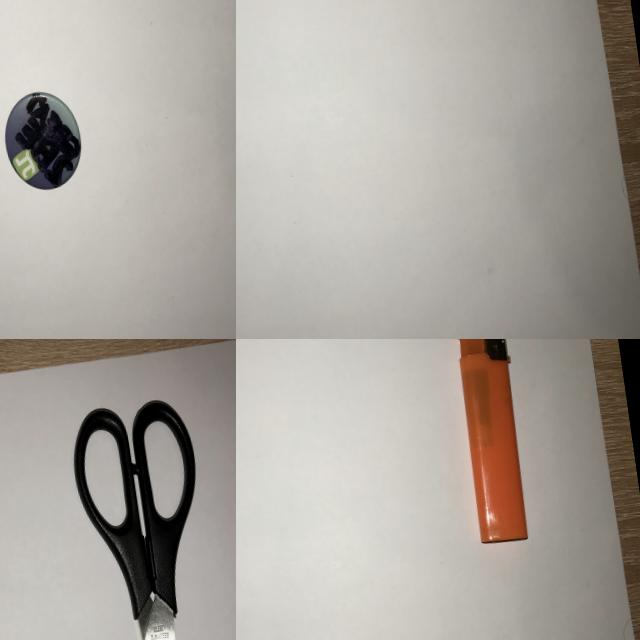icon: (0, 79, 94, 202)
lighter: (442, 339, 543, 556)
scissors: (59, 386, 236, 640)
